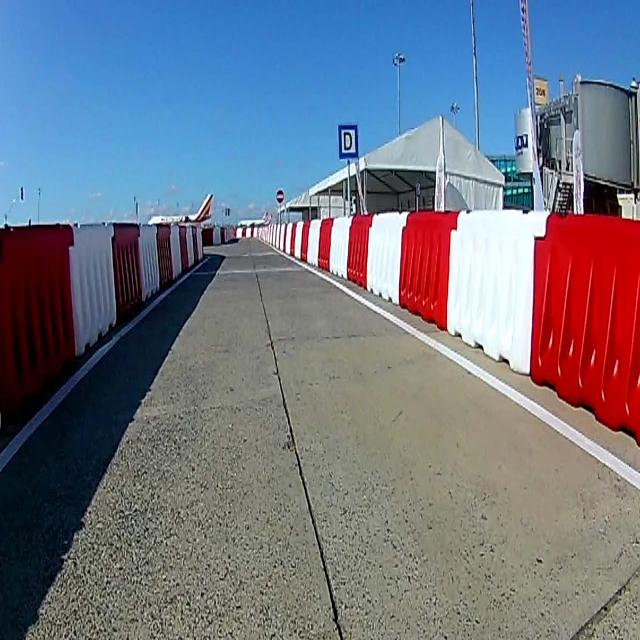durak: (337, 121, 359, 159)
girisyok: (276, 190, 284, 203)
